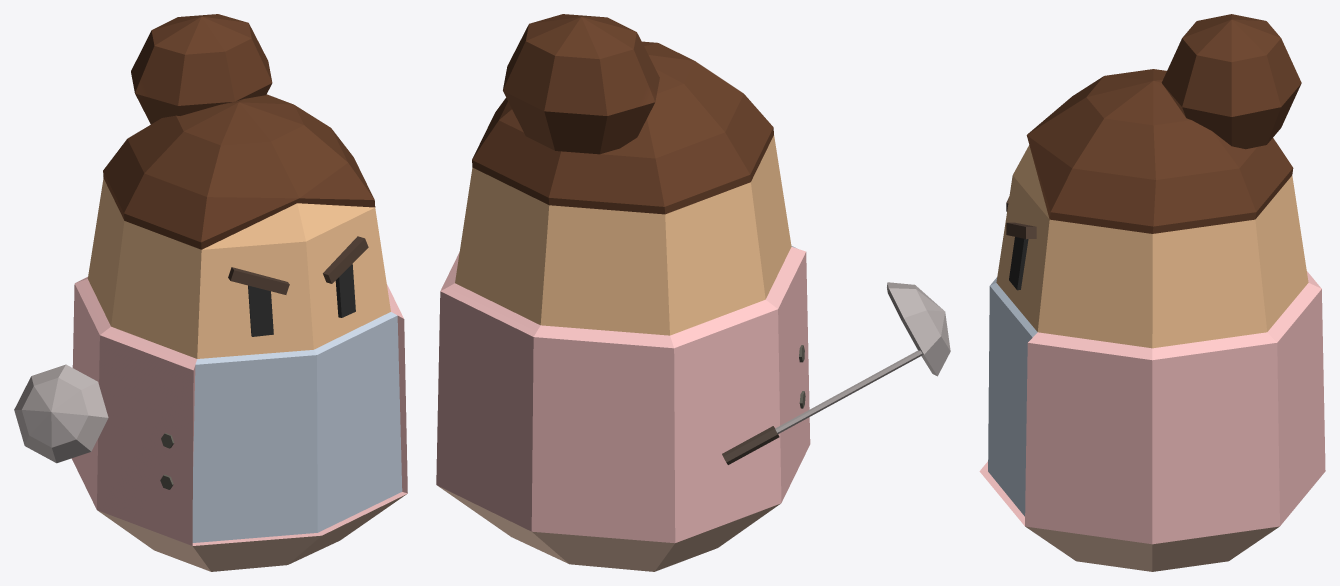
File: Girl02.fbx
3 renders of one model, left to right at view 1: azimuth 30°, elevation 25°; view 2: azimuth 150°, elevation 25°; view 3: azimuth 270°, elevation 25°, orthographic. The views are drawn at different scales.
Visible parts, largest first — view 1: Girl02; view 2: Girl02; view 3: Girl02.
Part boxes in pixels (x1=…): Girl02: x1=14, y1=14, x2=407, y2=571; Girl02: x1=436, y1=14, x2=950, y2=571; Girl02: x1=979, y1=14, x2=1325, y2=571.
Size of the model in its own units: 70.23 by 50.81 by 85.97.
